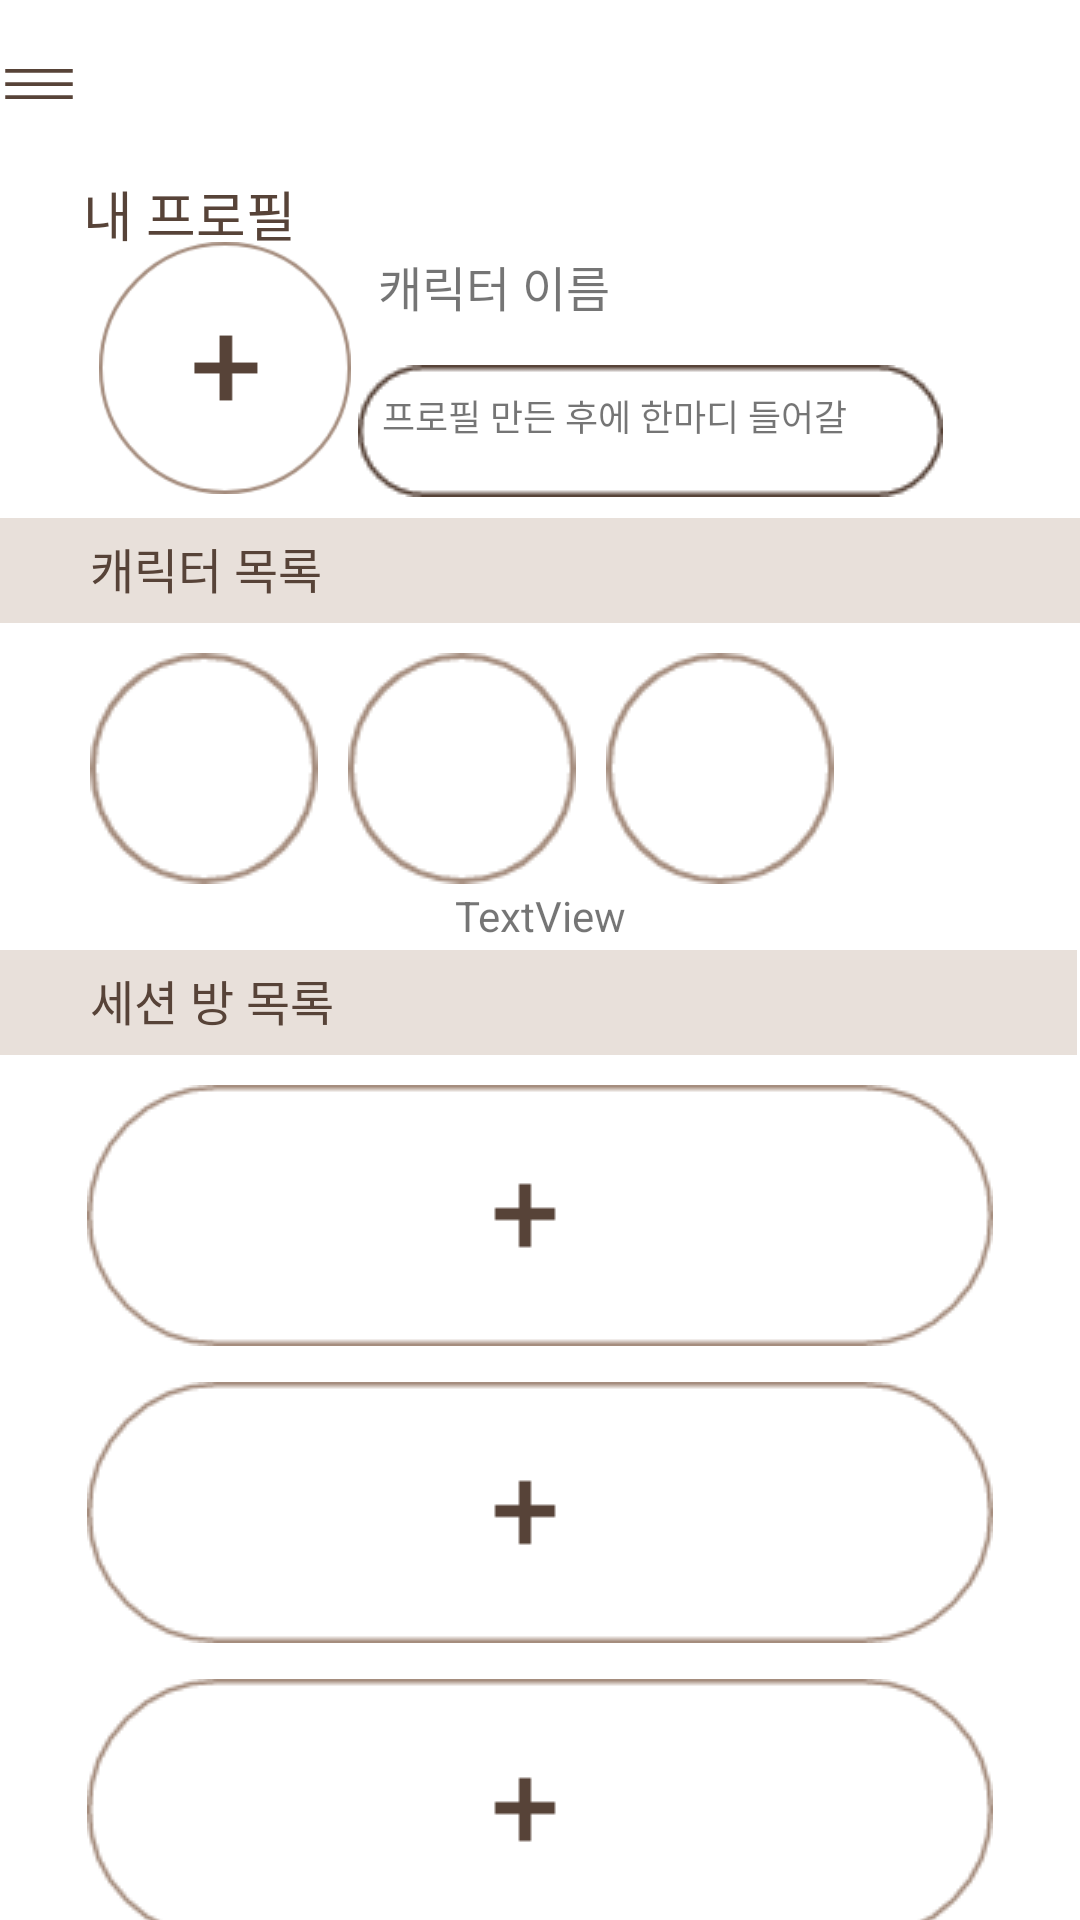

Named icons in this screenshot (1080 × 1920) and their bounding boxes, (x1=x1, y1=y1, x2=x2, y2=y2):
newchar: (x1=99, y1=242, x2=351, y2=494)
